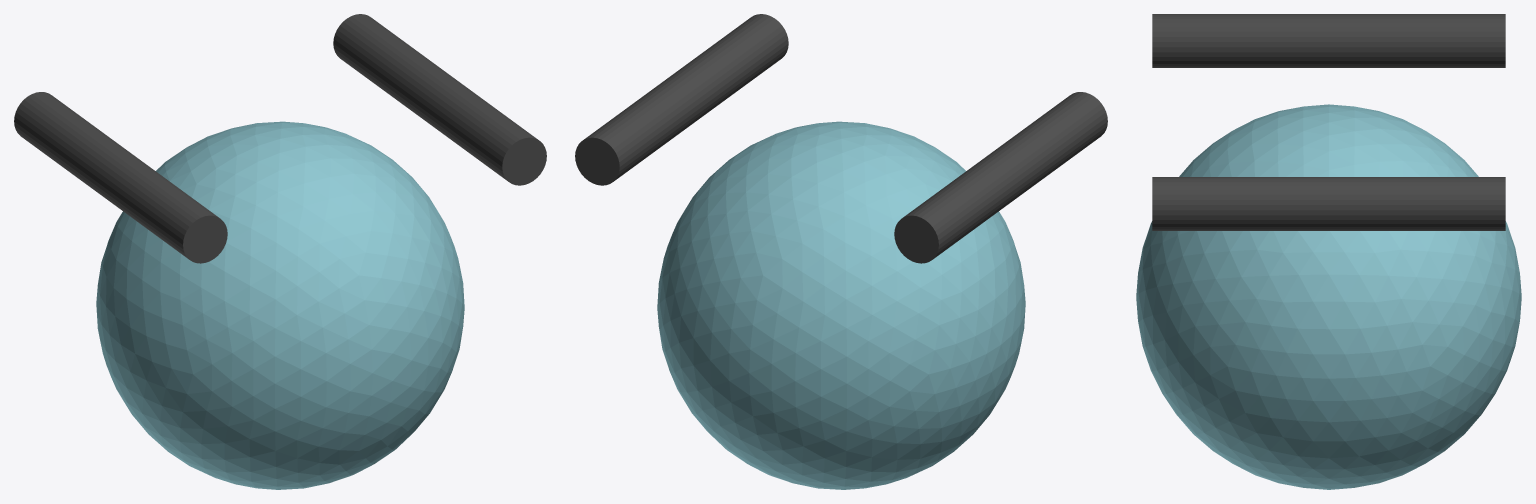
The model's file is shark-dog.glb.
The picture shows the model from 3 angles, left to right: view 1: azimuth 30°, elevation 25°; view 2: azimuth 150°, elevation 25°; view 3: azimuth 270°, elevation 25°; orthographic projection. The views are drawn at different scales.
Parts seen in each view (by area): view 1: body, head_0_0, teeth_1_0, teeth_1_11, teeth_1_10, teeth_1_3, teeth_1_7, teeth_1_9, teeth_1_1, teeth_1_2, teeth_1_5, teeth_1_8 (+2 smaller); view 2: body, teeth_1_1, teeth_1_0, head_0_0, teeth_1_11, teeth_1_9, teeth_1_8, teeth_1_5, teeth_1_10, teeth_1_3, teeth_1_7, teeth_1_6 (+3 smaller); view 3: body, teeth_1_1, head_0_0, teeth_1_0, teeth_1_3, teeth_1_5, teeth_1_7, teeth_1_9, teeth_1_10, teeth_1_8, teeth_1_11, teeth_1_2 (+3 smaller).
Part boxes in pixels (bbox=[...]): body: bbox=[96, 121, 464, 489]; head_0_0: bbox=[52, 120, 173, 230]; teeth_1_0: bbox=[14, 92, 130, 199]; teeth_1_11: bbox=[418, 70, 546, 185]; teeth_1_10: bbox=[92, 149, 227, 263]; teeth_1_3: bbox=[348, 26, 471, 121]; teeth_1_7: bbox=[379, 48, 500, 158]; teeth_1_9: bbox=[396, 60, 521, 163]; teeth_1_1: bbox=[333, 14, 448, 84]; teeth_1_2: bbox=[29, 103, 157, 208]; teeth_1_5: bbox=[364, 36, 472, 147]; teeth_1_8: bbox=[79, 137, 199, 247]; body: bbox=[657, 121, 1025, 489]; teeth_1_1: bbox=[575, 70, 711, 185]; teeth_1_0: bbox=[894, 148, 1030, 263]; head_0_0: bbox=[949, 120, 1069, 230]; teeth_1_11: bbox=[673, 14, 788, 122]; teeth_1_9: bbox=[650, 25, 773, 123]; teeth_1_8: bbox=[972, 103, 1091, 206]; teeth_1_5: bbox=[621, 48, 742, 158]; teeth_1_10: bbox=[981, 92, 1107, 203]; teeth_1_3: bbox=[599, 59, 726, 161]; teeth_1_7: bbox=[652, 36, 757, 147]; teeth_1_6: bbox=[959, 114, 1076, 222]; body: bbox=[1136, 104, 1521, 489]; teeth_1_1: bbox=[1313, 177, 1505, 230]; head_0_0: bbox=[1232, 14, 1425, 67]; teeth_1_0: bbox=[1313, 14, 1505, 67]; teeth_1_3: bbox=[1280, 177, 1473, 230]; teeth_1_5: bbox=[1248, 177, 1441, 230]; teeth_1_7: bbox=[1216, 177, 1409, 230]; teeth_1_9: bbox=[1184, 177, 1377, 230]; teeth_1_10: bbox=[1152, 14, 1344, 67]; teeth_1_8: bbox=[1184, 14, 1377, 67]; teeth_1_11: bbox=[1152, 177, 1344, 230]; teeth_1_2: bbox=[1280, 14, 1473, 67].
Size of the model in its own units: 1.37 by 1.28 by 1.2.
